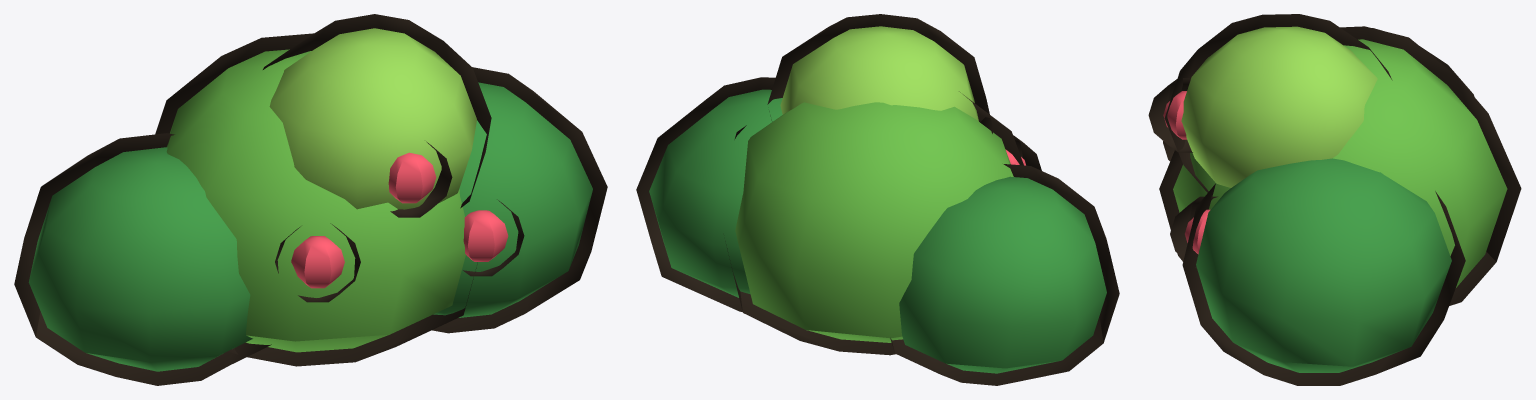
Rendered from bush-2.glb.
3 views of the same model, side by side, from view 1: azimuth 30°, elevation 25°; view 2: azimuth 150°, elevation 25°; view 3: azimuth 270°, elevation 25° (orthographic). The views are drawn at different scales.
Visible parts, largest first — view 1: bush-2; view 2: bush-2; view 3: bush-2.
Part boxes in pixels (x1,y1,x2,y2): bush-2: [14, 14, 607, 385]; bush-2: [636, 14, 1119, 385]; bush-2: [1148, 14, 1521, 385].
Bounding box in the file's own units: 1.58 × 0.8905 × 1.04.
